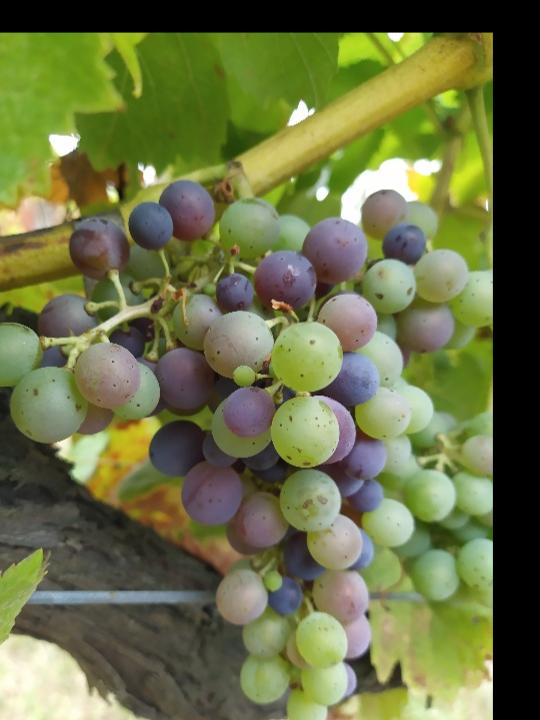grape: (0, 182, 493, 720)
